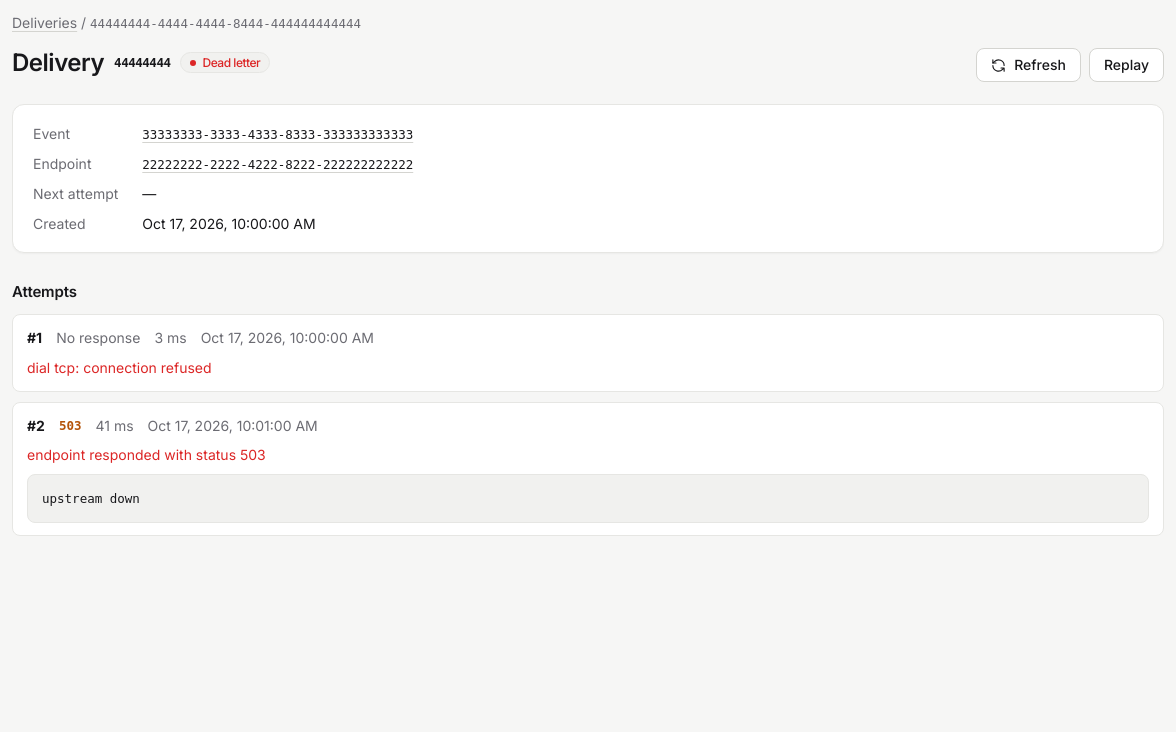
DeliveryDetailPage › explains a conflicting replay
What coordinates should you click on to do the following:
click the button "Replay"
I would click on:
 (1126, 65)
Its box is [1089,48,1164,82].
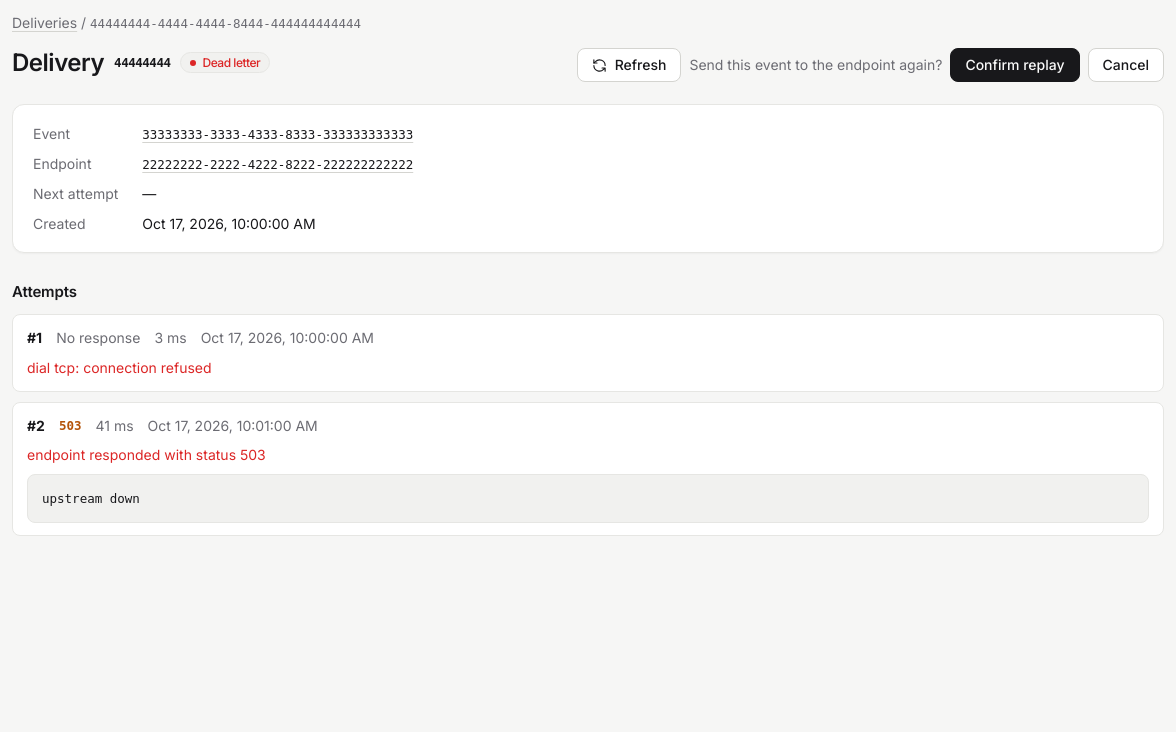
What coordinates should you click on to do the following:
click the button "Confirm replay"
I would click on:
 (1015, 65)
Its box is [950,48,1080,82].
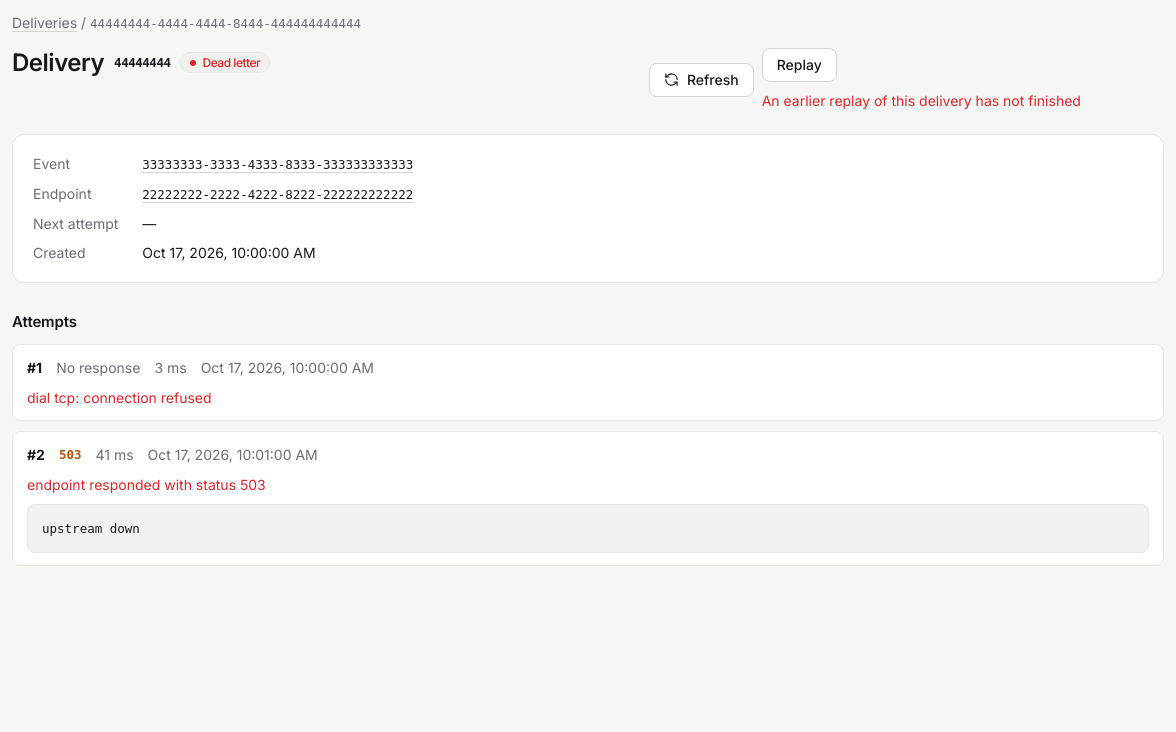
Check: the message reads "An earlier replay of this delivery has not finished", box [762,92,1081,110]
